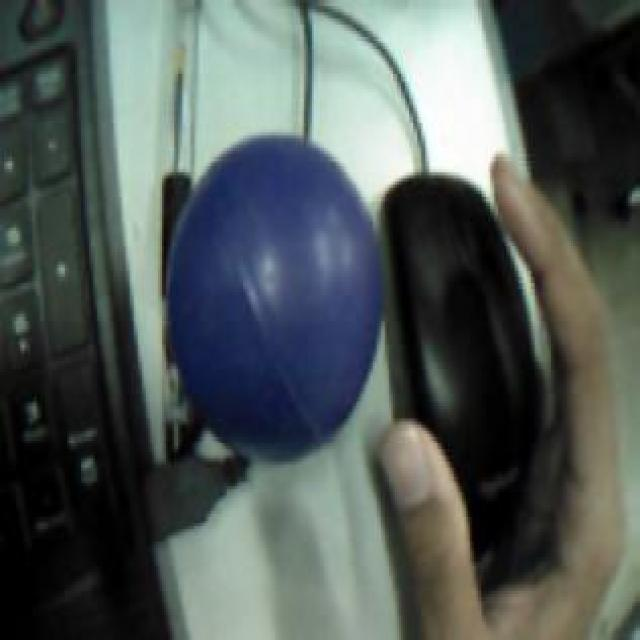BallPurple: (168, 134, 384, 461)
